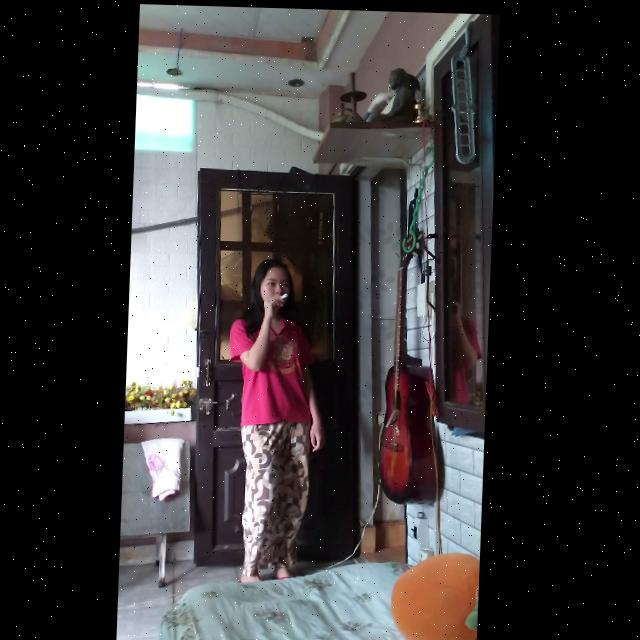cigarette: (283, 292, 290, 298)
